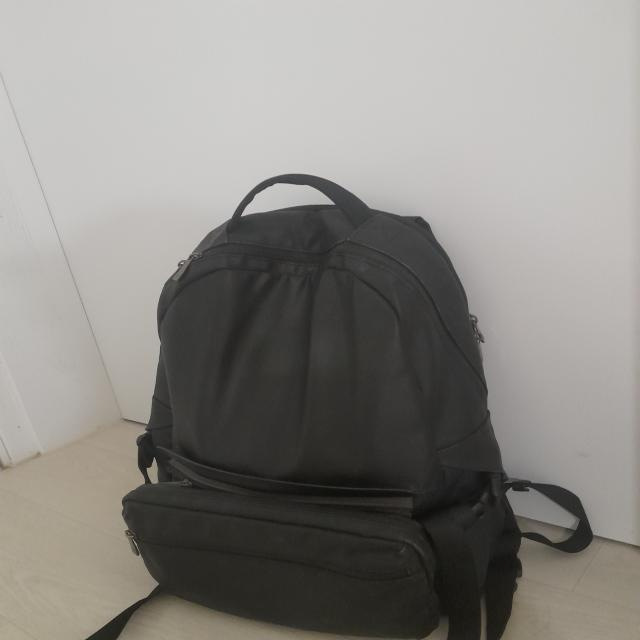backpack: (87, 173, 589, 640)
